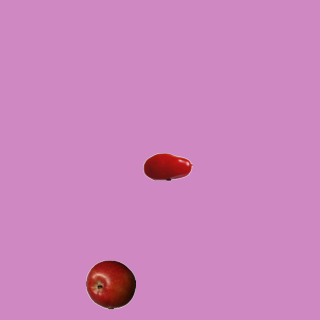Apple Braeburn: (85, 259, 135, 309)
Tomato 2: (142, 141, 192, 191)
